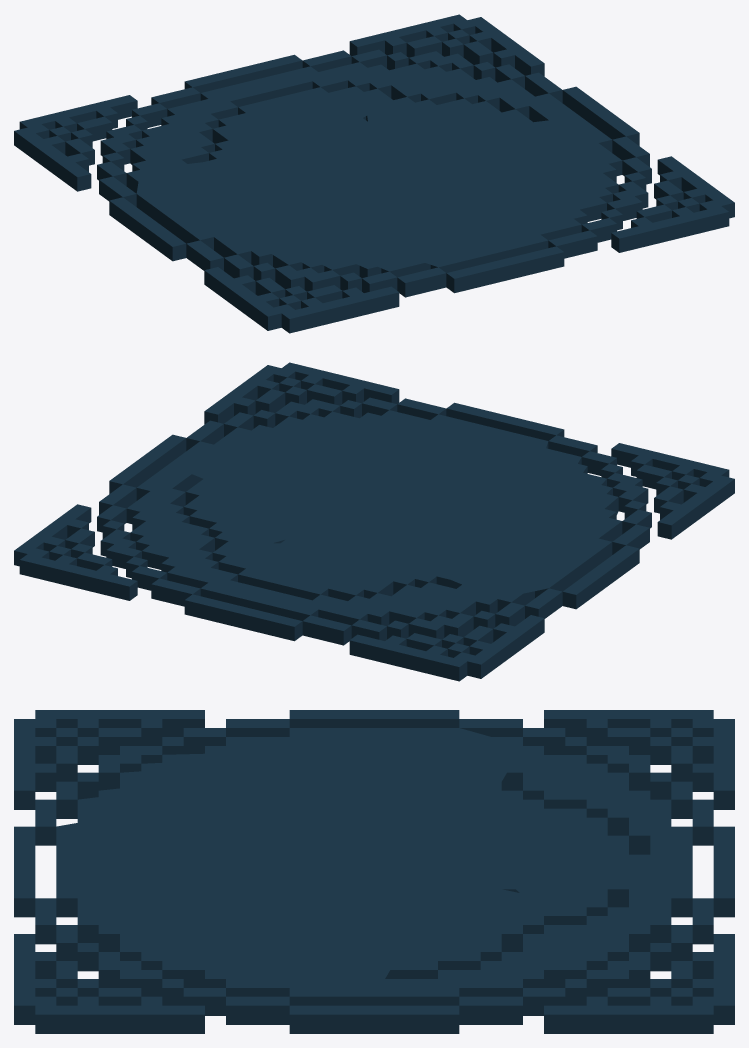
Rendered from Ground_3.fbx.
3 views of the same model, one above another, from view 1: azimuth 30°, elevation 25°; view 2: azimuth 150°, elevation 25°; view 3: azimuth 270°, elevation 25° (orthographic). The views are drawn at different scales.
Visible parts, largest first — view 1: Ground_3; view 2: Ground_3; view 3: Ground_3.
Boxes of the visible parts, x1,y1,x2,y2 form: Ground_3: (14, 14, 734, 333); Ground_3: (14, 362, 734, 681); Ground_3: (14, 710, 734, 1033).
Size of the model in its own units: 85 by 85 by 2.5.
